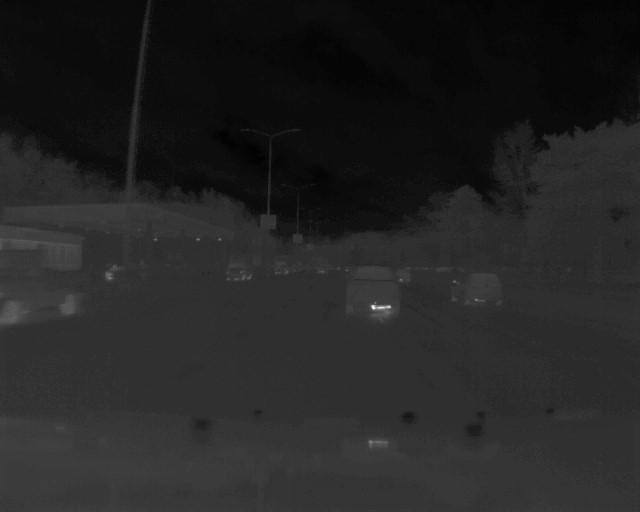car: (342, 260, 404, 321), (463, 268, 506, 308), (232, 260, 252, 282), (278, 255, 292, 276), (404, 262, 415, 286)
